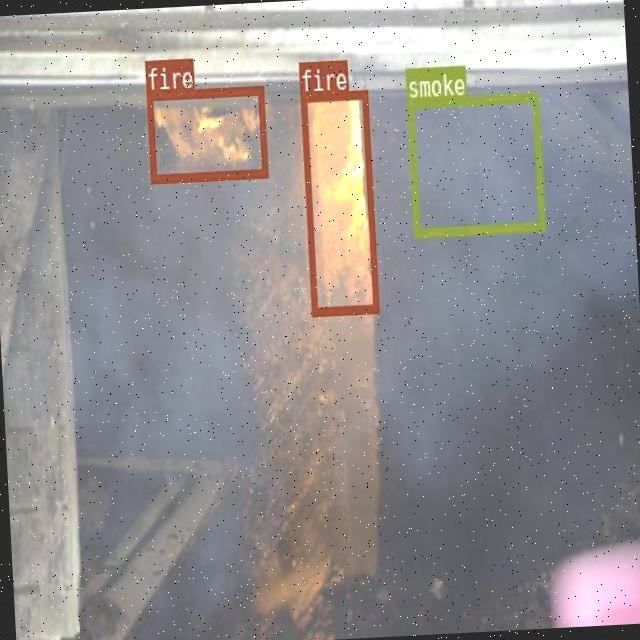fire: (300, 88, 378, 316), (146, 84, 266, 182)
smoke: (406, 90, 544, 237)
